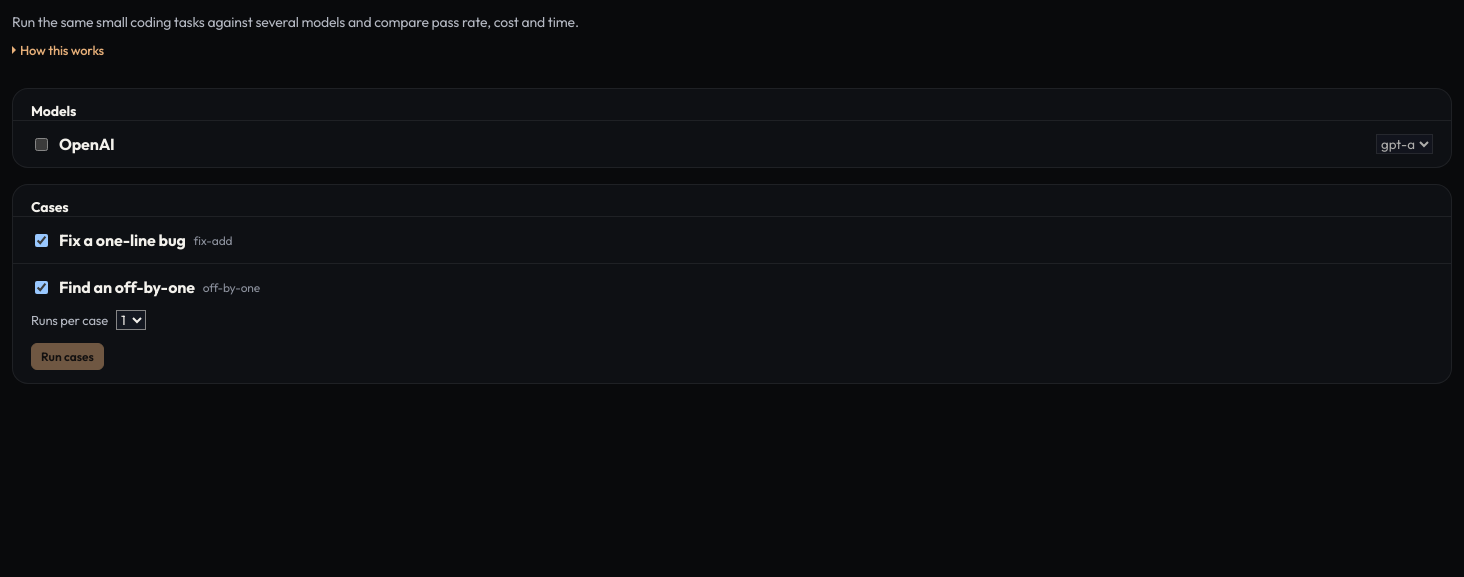
Test: BenchmarkSettings › starts a run for the picked model and shows the summary
Expected: the button with test id "benchmark-start" is disabled, [31, 343, 104, 370]
Click the checkbox with test id "benchmark-provider-openai". click: coordinates (42, 144)
box: [35, 138, 48, 151]
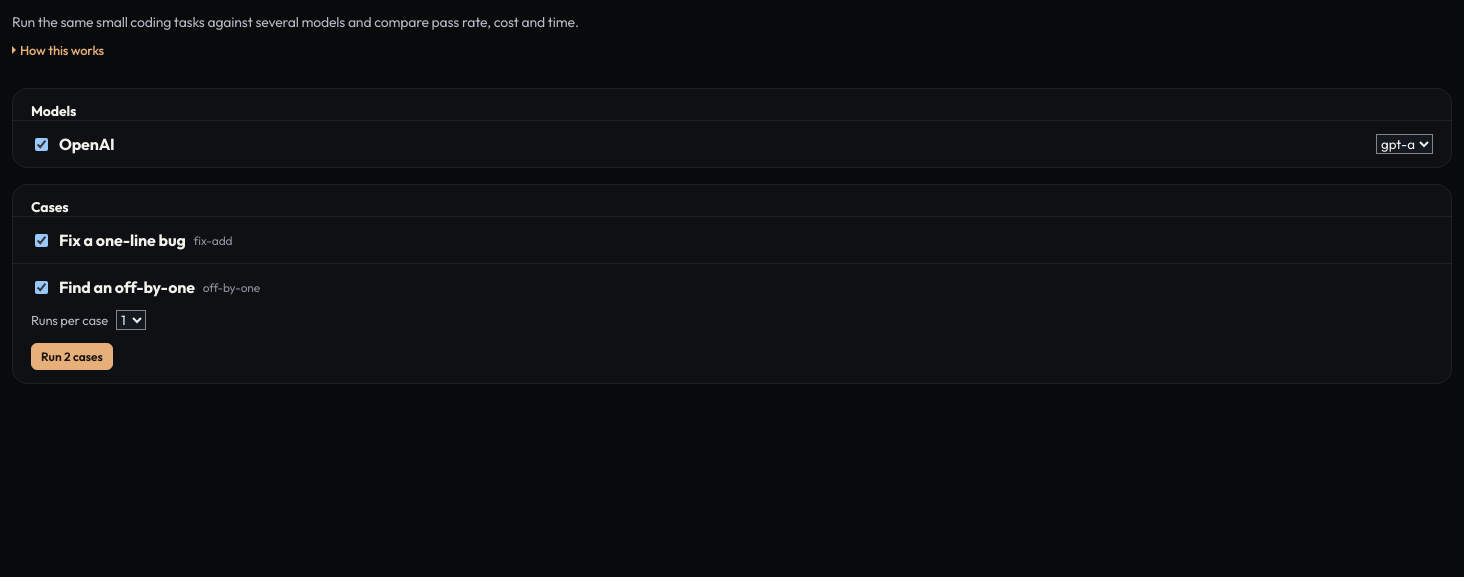
Expected: the button with test id "benchmark-start" is enabled
Expected: the button with test id "benchmark-start" reads "Run 2 cases"
Click the button with test id "benchmark-start". click: coordinates (72, 357)
box: [31, 343, 113, 370]
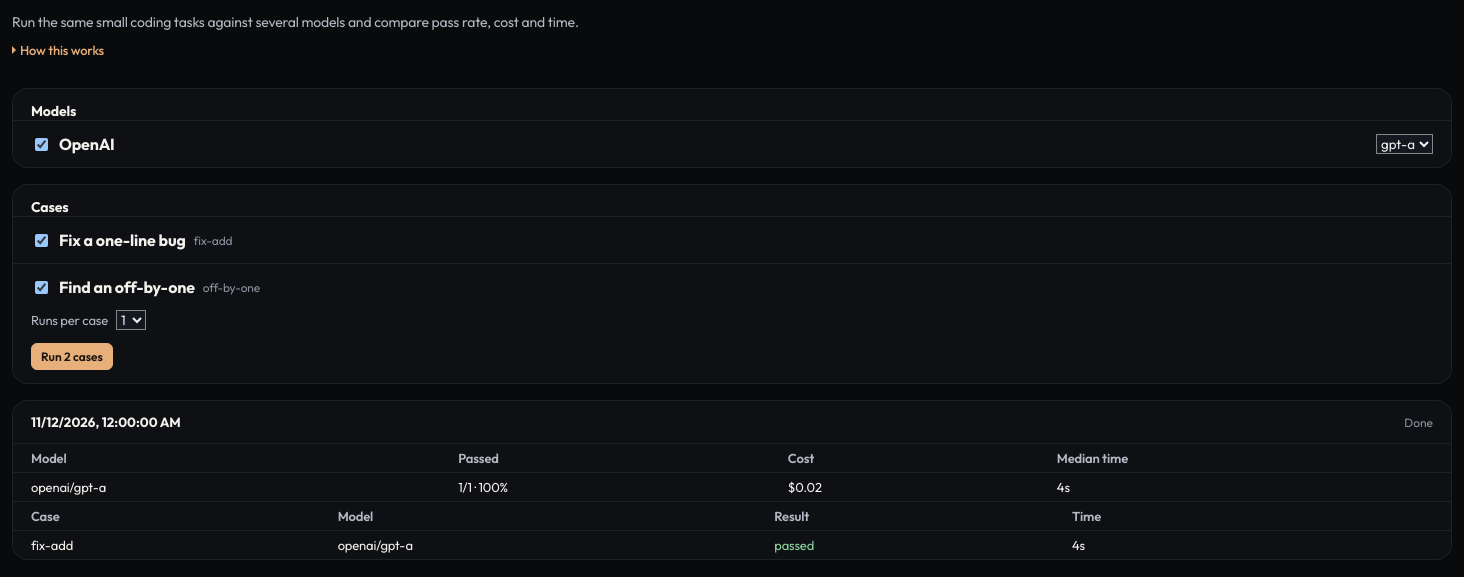
Expected: the element with test id "benchmark-run" shows "openai/gpt-a", [31, 479, 106, 495]
Expected: the element with test id "benchmark-run" shows "1/1 · 100%", [12, 400, 1452, 560]
Expected: the element with test id "benchmark-run" shows "$0.02", [788, 479, 822, 495]
